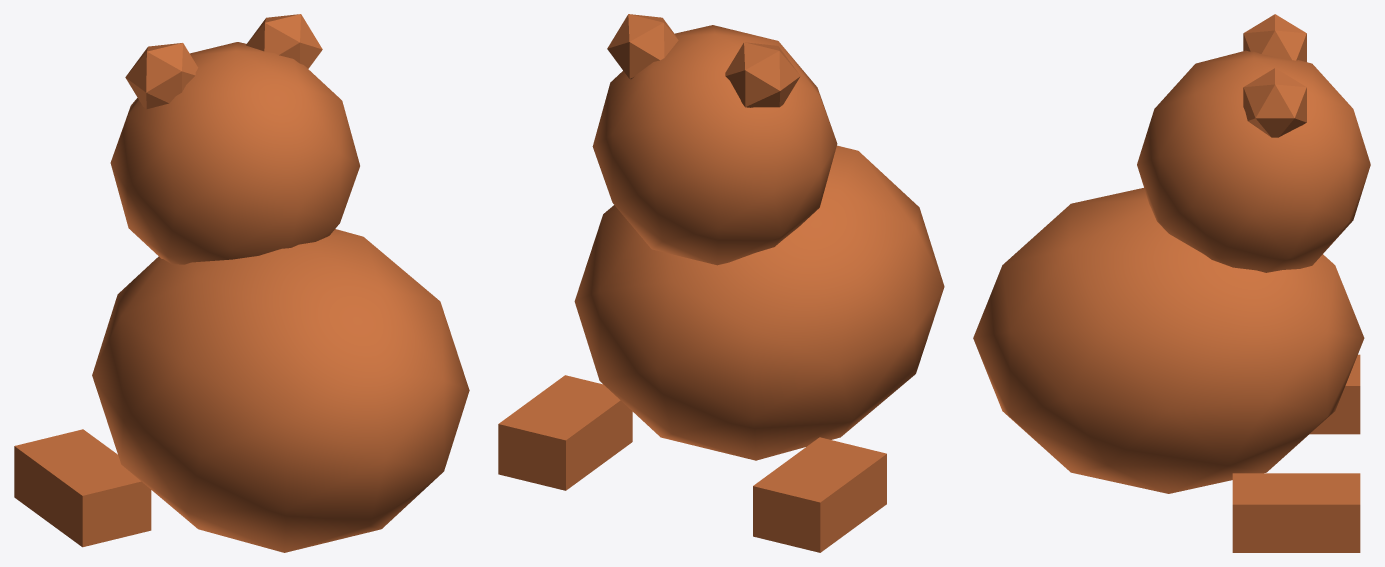
File: frog.obj
3 renders of one model, left to right at view 1: azimuth 30°, elevation 25°; view 2: azimuth 150°, elevation 25°; view 3: azimuth 270°, elevation 25°, orthographic. The views are drawn at different scales.
Visible parts, largest first — view 1: frog_0, frog_1, frog_3, frog_2, frog_4; view 2: frog_0, frog_1, frog_3, frog_5, frog_2, frog_4; view 3: frog_0, frog_1, frog_5, frog_4, frog_2, frog_3.
Boxes of the visible parts, x1,y1,x2,y2 form: frog_0: (92, 229, 469, 552); frog_1: (110, 42, 359, 264); frog_3: (14, 429, 151, 547); frog_2: (125, 43, 198, 108); frog_4: (246, 14, 322, 68); frog_0: (574, 145, 944, 460); frog_1: (592, 25, 837, 265); frog_3: (753, 437, 886, 552); frog_5: (498, 375, 632, 490); frog_2: (725, 42, 800, 107); frog_4: (607, 14, 678, 79); frog_0: (973, 188, 1364, 493); frog_1: (1137, 50, 1370, 272); frog_5: (1232, 473, 1360, 552); frog_4: (1243, 68, 1306, 137); frog_2: (1243, 14, 1306, 61); frog_3: (1310, 354, 1360, 434).
Size of the model in its own units: 0.334 by 0.4448 by 0.374.
